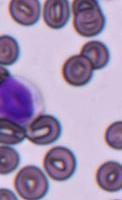L: (0, 74, 43, 126)
